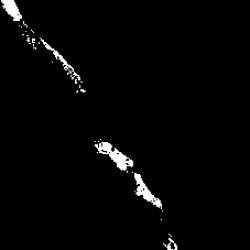crack: (5, 3, 84, 93), (94, 141, 165, 211)
